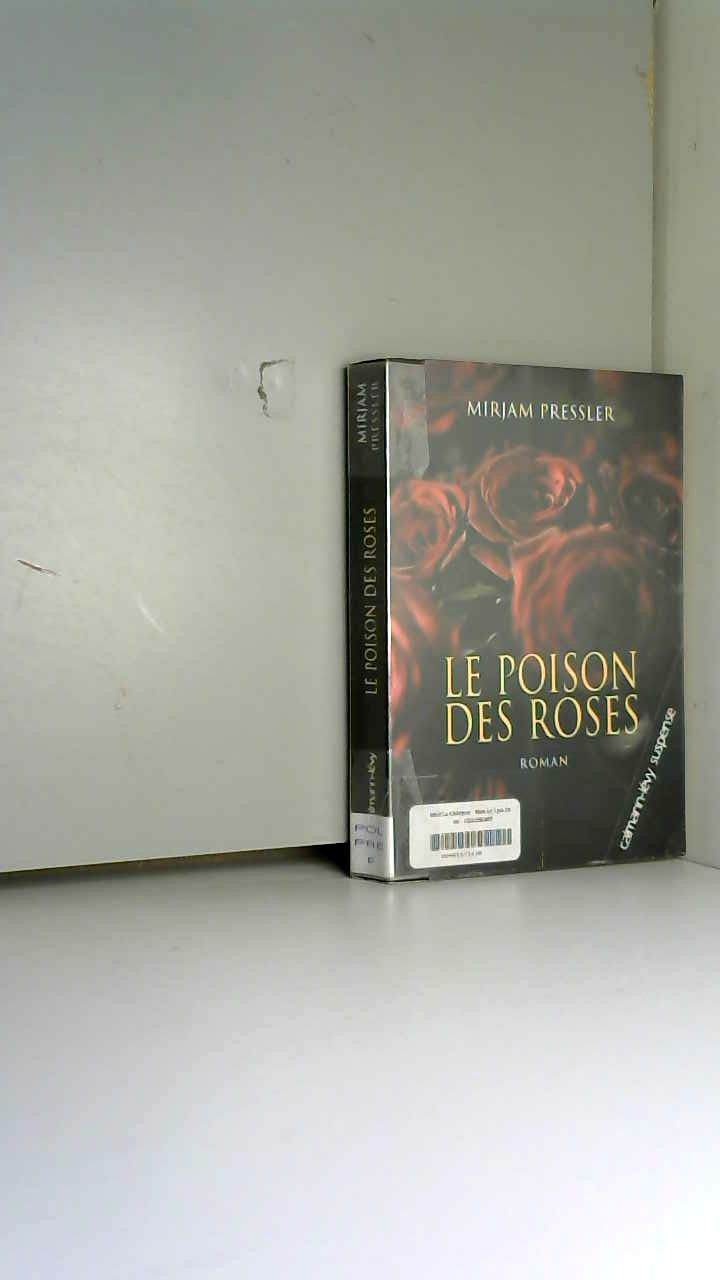book: (310, 330, 716, 911)
